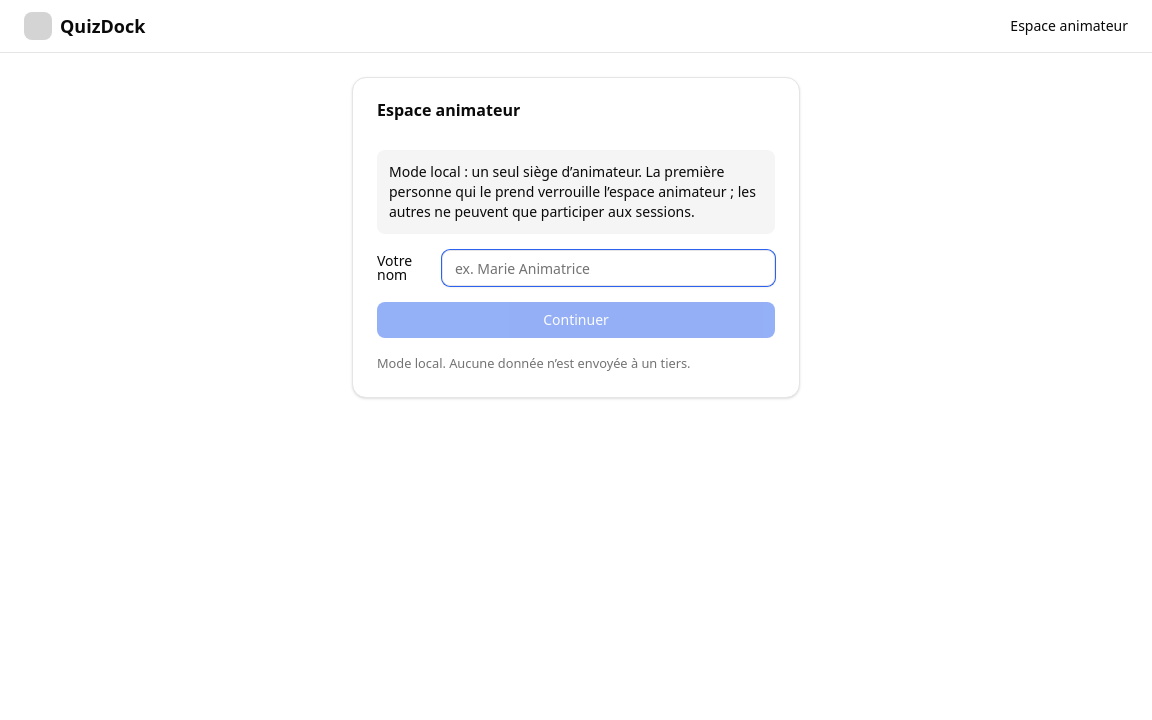
Test: LoginPage › free seat: explains the lock, asks for confirmation with an expiry, then claims
Expected: the message shows "un seul siège", [389,162,756,221]
Step 1. Type "Marie" into the field labelled "Votre nom" → [608, 268], box [442,250,775,286]
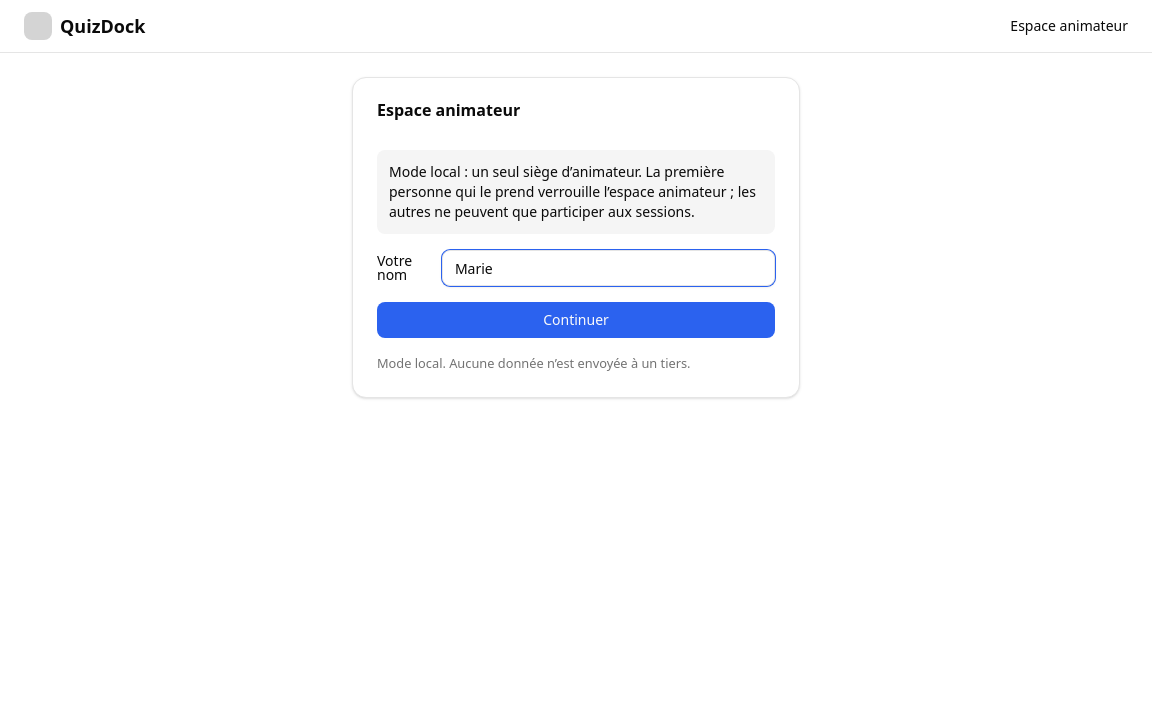
Step 2. Click the button "Continuer" → [576, 320], box [377,302,775,338]
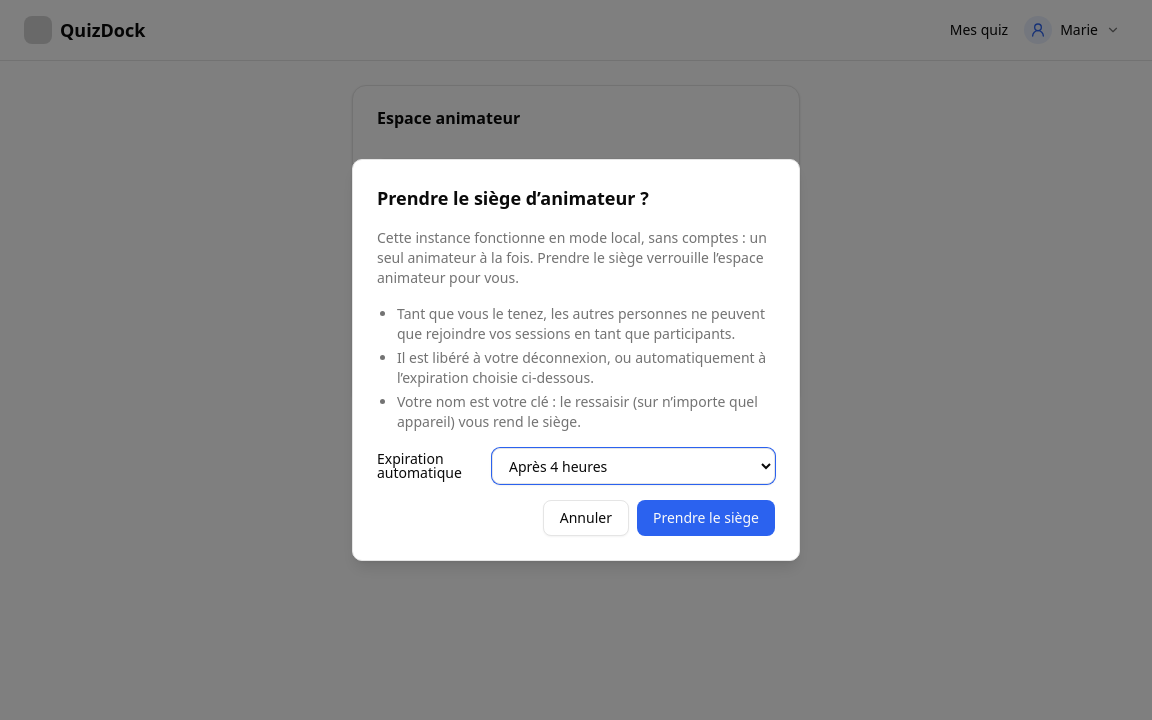
Result: the heading "Prendre le siège d’animateur ?" is shown at [377,186,649,210]
Result: the text "un seul animateur à la fois" is shown at [377,228,767,287]
Step 3. Select "Jamais (jusqu’à ma déconnexion)" in the dropdown labelled "Expiration automatique" → [634, 466], box [492,448,775,484]
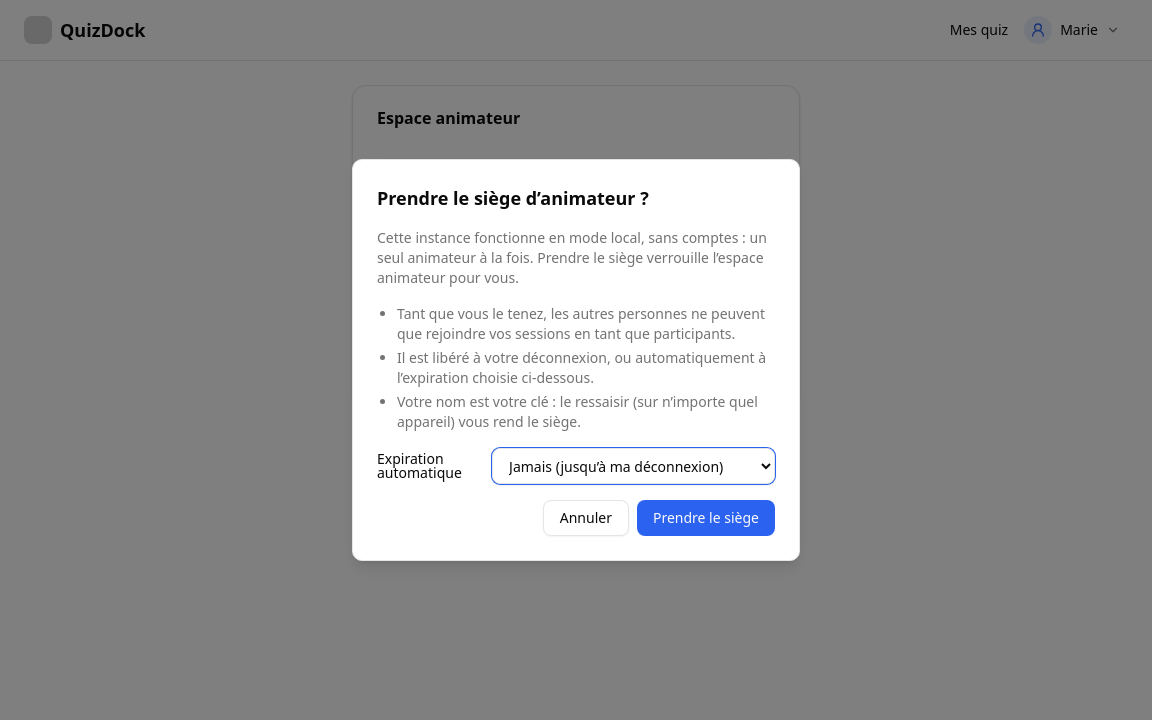
Step 4. Click the button "Prendre le siège" → [706, 518], box [637,500,775,536]
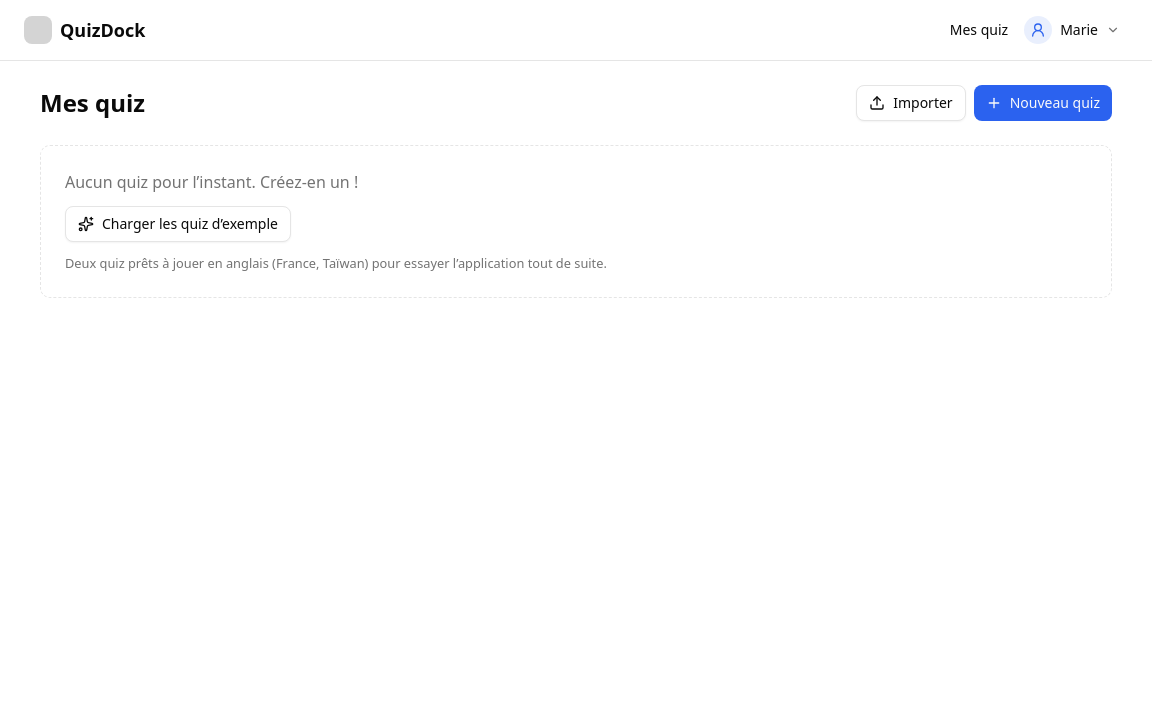
Result: the heading "Mes quiz" is shown at [40,87,145,119]
